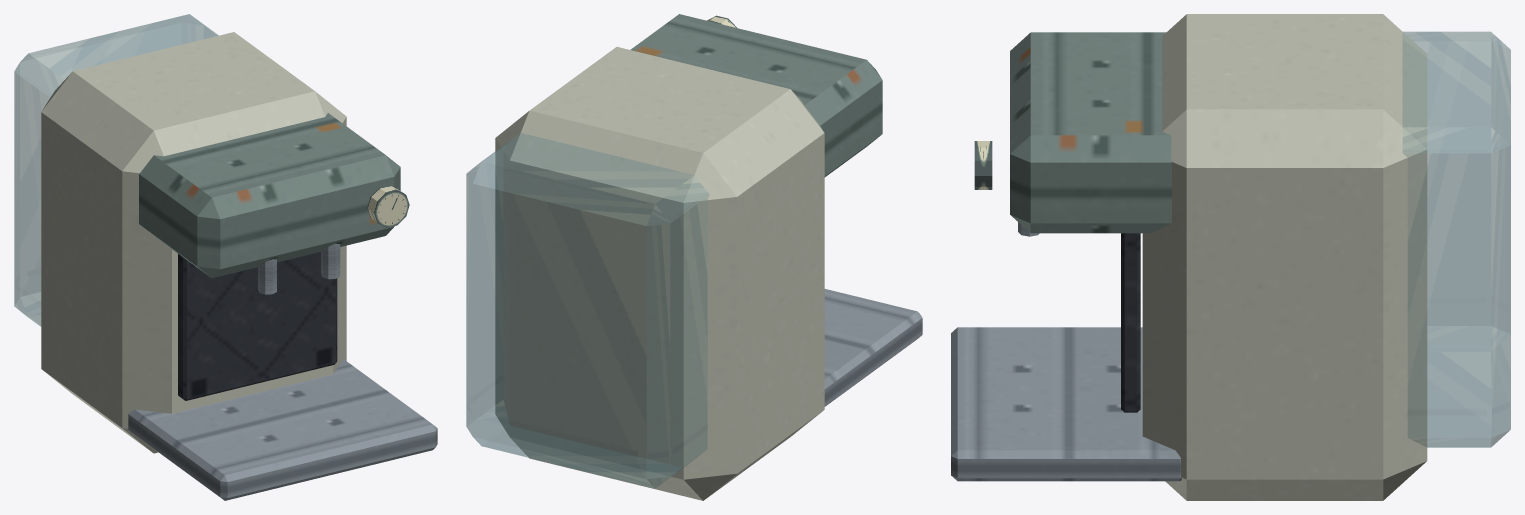
The model's file is MD_56_CoffeeMachine.fbx.
3 views of the same model, side by side, from view 1: azimuth 30°, elevation 25°; view 2: azimuth 150°, elevation 25°; view 3: azimuth 270°, elevation 25° (orthographic). The views are drawn at different scales.
Parts seen in each view (by area): view 1: MD_56_CoffeeMachine_coffee_body, MD_56_CoffeeMachine_brew_head, MD_56_CoffeeMachine_drip_tray, MD_56_CoffeeMachine_cup_recess, MD_56_CoffeeMachine_water_tank, MD_56_CoffeeMachine_dial, MD_56_CoffeeMachine_coffee_spout.001, MD_56_CoffeeMachine_coffee_spout; view 2: MD_56_CoffeeMachine_coffee_body, MD_56_CoffeeMachine_water_tank, MD_56_CoffeeMachine_brew_head, MD_56_CoffeeMachine_drip_tray; view 3: MD_56_CoffeeMachine_coffee_body, MD_56_CoffeeMachine_water_tank, MD_56_CoffeeMachine_brew_head, MD_56_CoffeeMachine_drip_tray, MD_56_CoffeeMachine_cup_recess, MD_56_CoffeeMachine_dial.
Boxes of the visible parts, <box> form: MD_56_CoffeeMachine_coffee_body: <box>41,32,346,453</box>; MD_56_CoffeeMachine_brew_head: <box>139,113,400,278</box>; MD_56_CoffeeMachine_drip_tray: <box>128,359,437,500</box>; MD_56_CoffeeMachine_cup_recess: <box>178,252,337,400</box>; MD_56_CoffeeMachine_water_tank: <box>14,14,218,326</box>; MD_56_CoffeeMachine_dial: <box>367,185,409,227</box>; MD_56_CoffeeMachine_coffee_spout.001: <box>321,244,340,279</box>; MD_56_CoffeeMachine_coffee_spout: <box>258,259,276,294</box>; MD_56_CoffeeMachine_coffee_body: <box>495,47,824,500</box>; MD_56_CoffeeMachine_water_tank: <box>466,133,709,488</box>; MD_56_CoffeeMachine_brew_head: <box>630,14,882,177</box>; MD_56_CoffeeMachine_drip_tray: <box>824,289,922,406</box>; MD_56_CoffeeMachine_coffee_body: <box>1142,14,1427,500</box>; MD_56_CoffeeMachine_water_tank: <box>1403,31,1510,447</box>; MD_56_CoffeeMachine_brew_head: <box>1010,32,1171,233</box>; MD_56_CoffeeMachine_drip_tray: <box>951,327,1181,481</box>; MD_56_CoffeeMachine_cup_recess: <box>1121,233,1140,412</box>; MD_56_CoffeeMachine_dial: <box>974,141,992,189</box>.
Size of the model in its own units: 0.32 by 0.44 by 0.57.
Materials: 6 (6 with a texture image).
